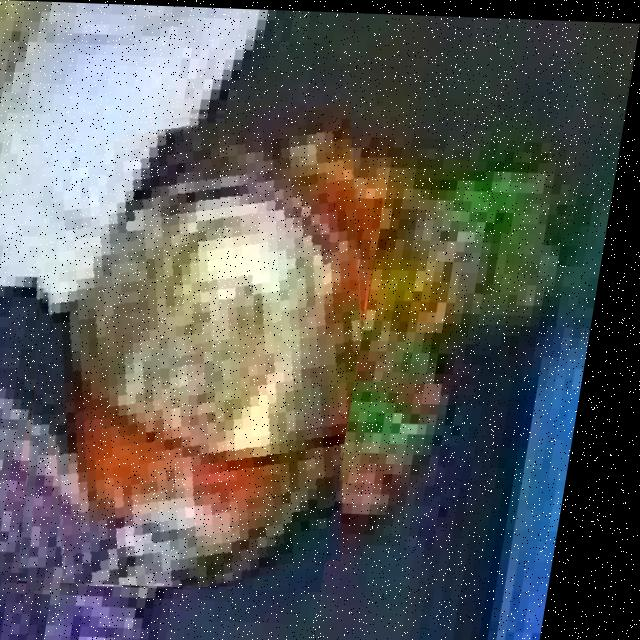can: (3, 99, 402, 589)
